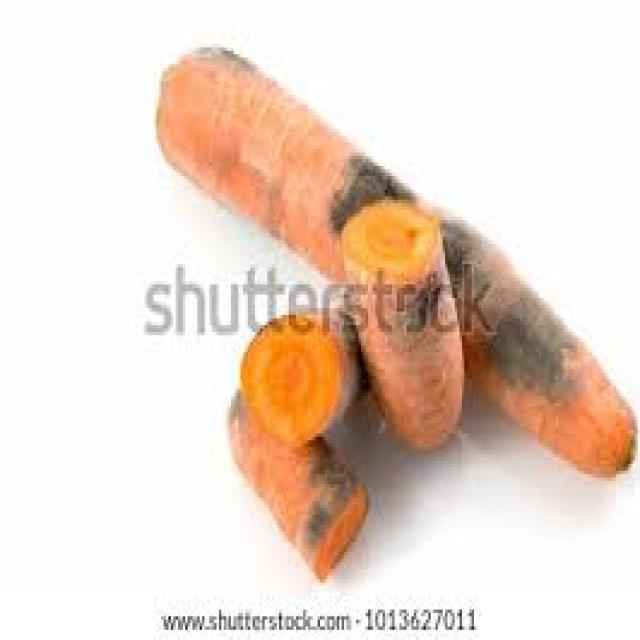Stale_Carrot: (156, 49, 462, 448), (445, 220, 636, 476), (230, 318, 369, 578)
